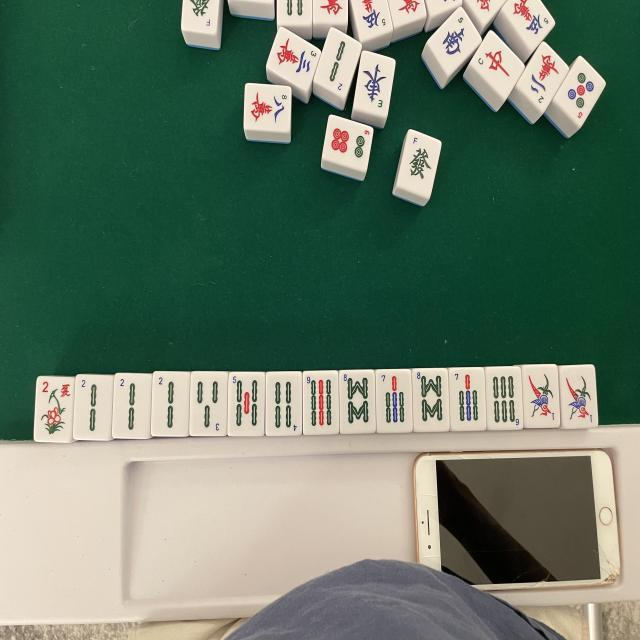bs2: (37, 378, 70, 440)
sb1: (562, 368, 596, 425), (526, 369, 556, 424)
sb2: (116, 376, 149, 436), (154, 374, 187, 433), (78, 378, 110, 436)
sb3: (192, 372, 225, 433)
sb4: (268, 375, 300, 433)
sb5: (232, 374, 262, 432)
sb6: (488, 370, 522, 427)
sb7: (378, 371, 411, 429), (451, 370, 484, 427)
sb8: (340, 370, 374, 430), (414, 371, 448, 427)
sb9: (304, 373, 336, 431)
